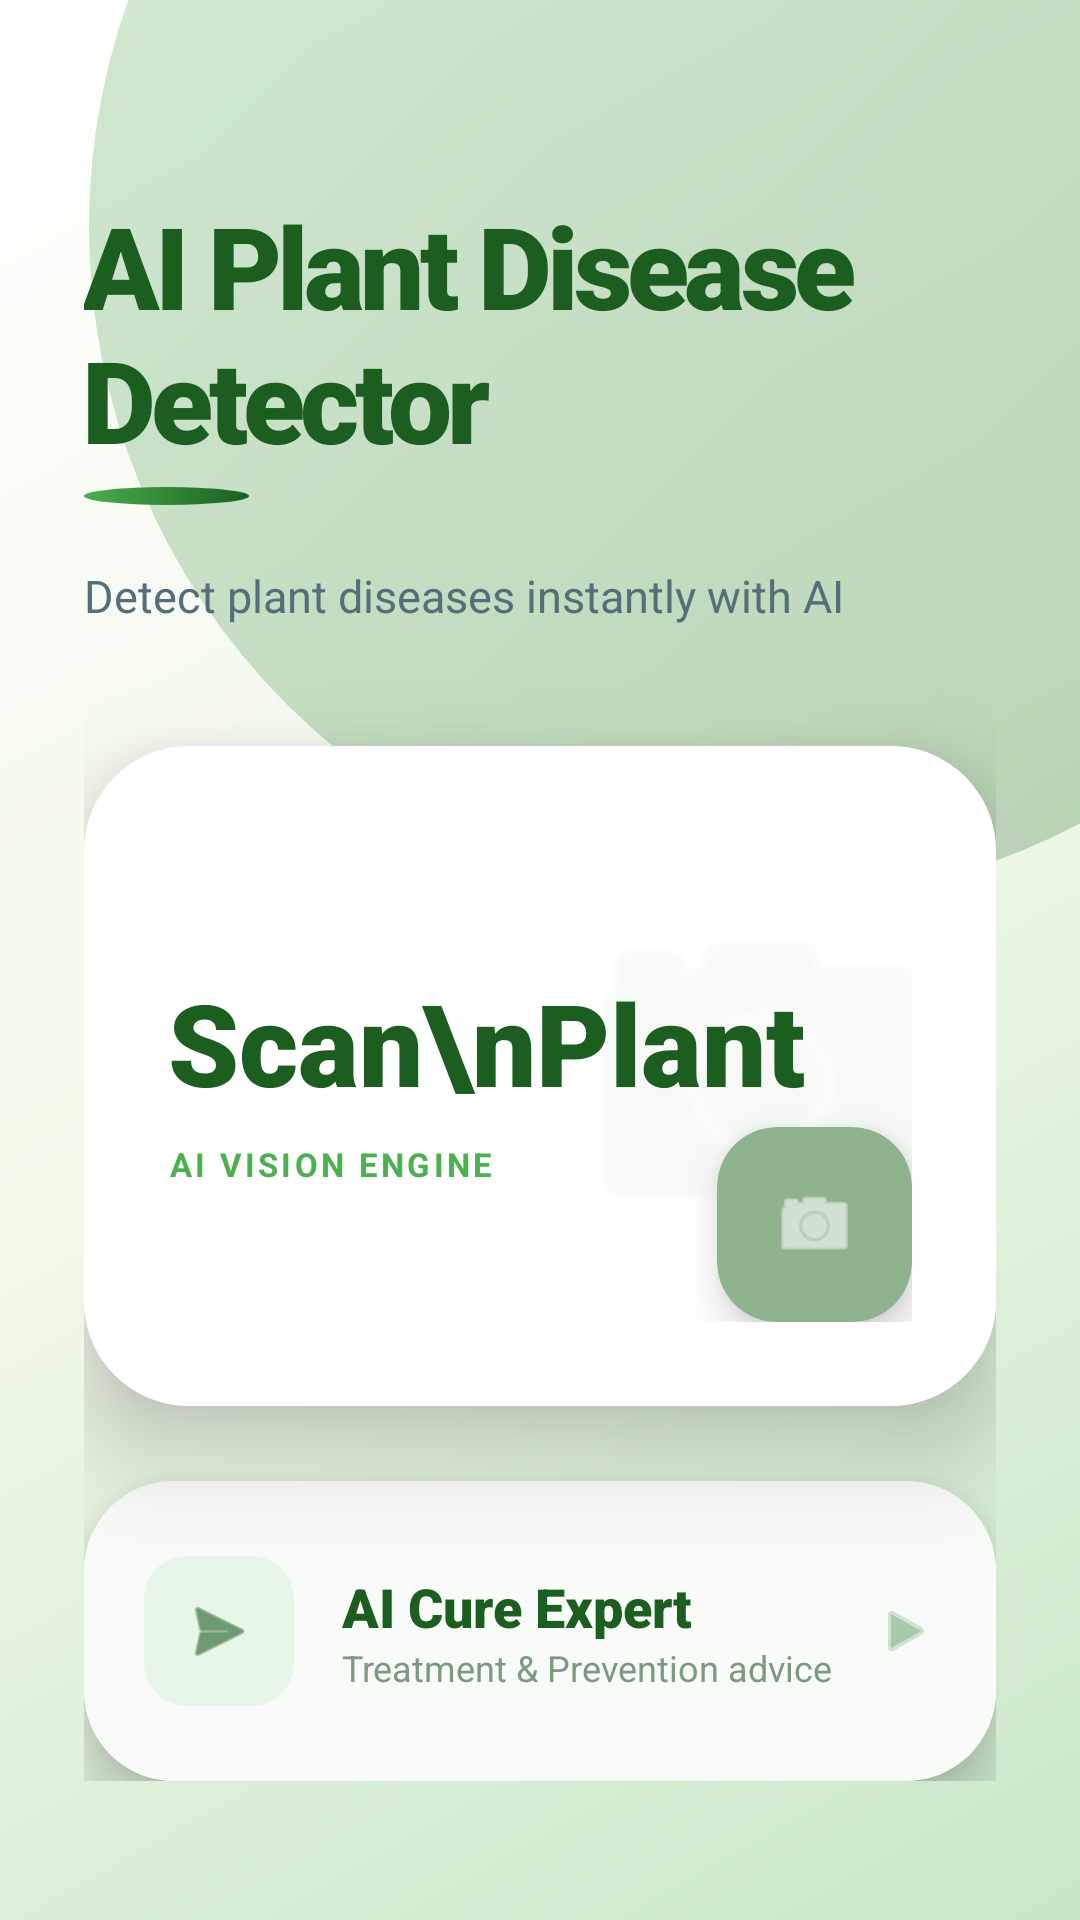

Icon click points for this 1080px×1920px phone screenshot, format [x,y]:
camera: [814,1224]
play: [906,1631]
send: [219,1631]
